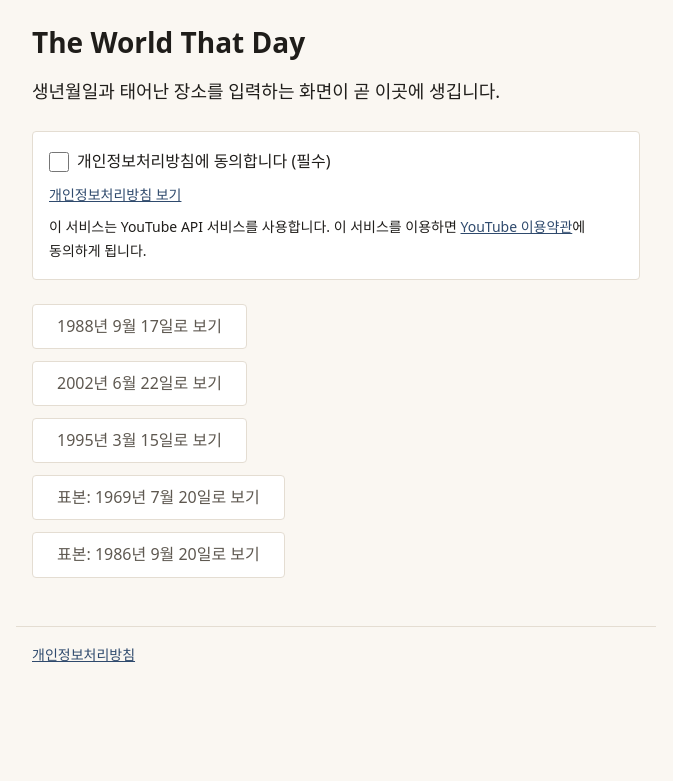
it: App › switches between the input placeholder and the story
Expected: the heading "The World That Day" is shown, left=32, top=23, right=305, bottom=61
Click the checkbox labelled "개인정보처리방침에 동의합니다 (필수)".
click(59, 162)  # box left=49, top=152, right=69, bottom=172
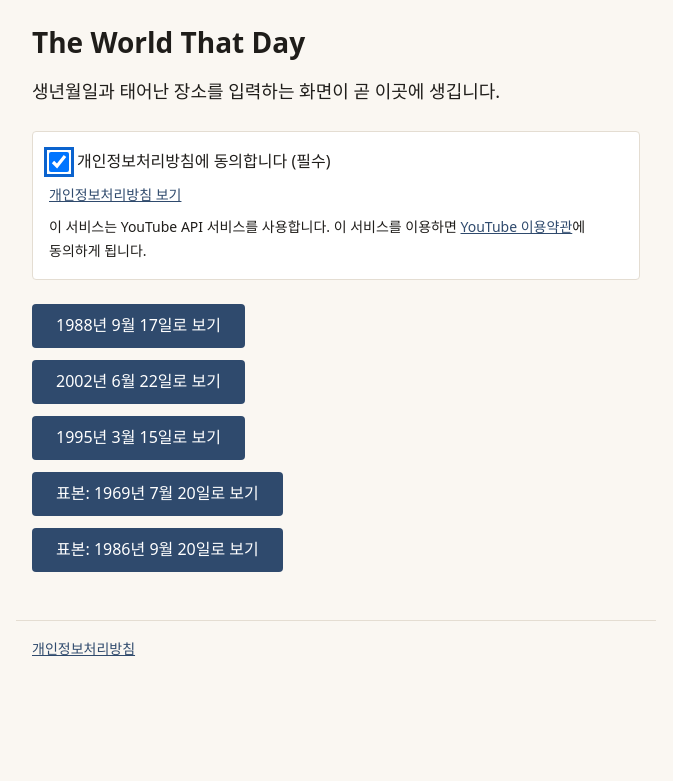
Click the button "1988년 9월 17일로 보기".
click(138, 326)  # box left=32, top=304, right=245, bottom=348
(page scrolled)
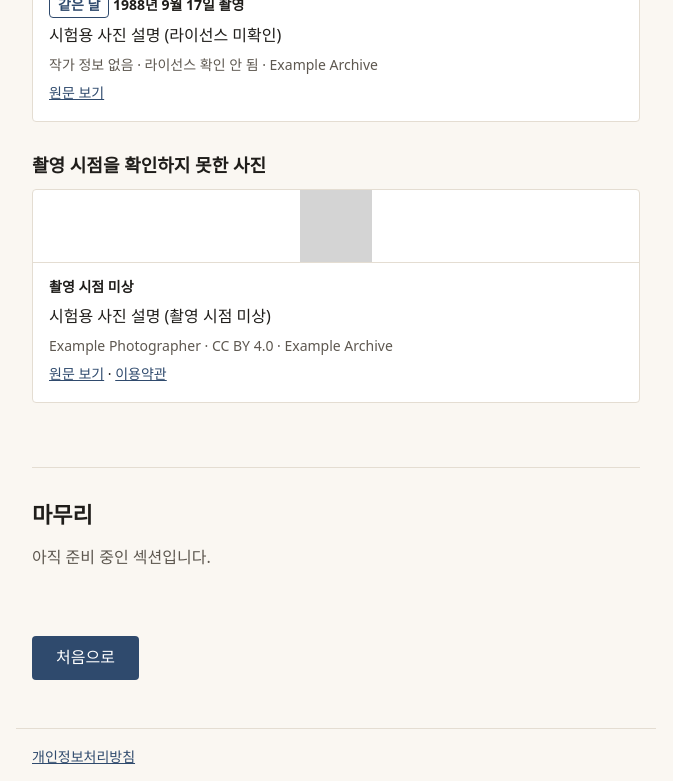
Click the button "처음으로".
click(85, 658)  # box left=32, top=636, right=139, bottom=680
(page scrolled)
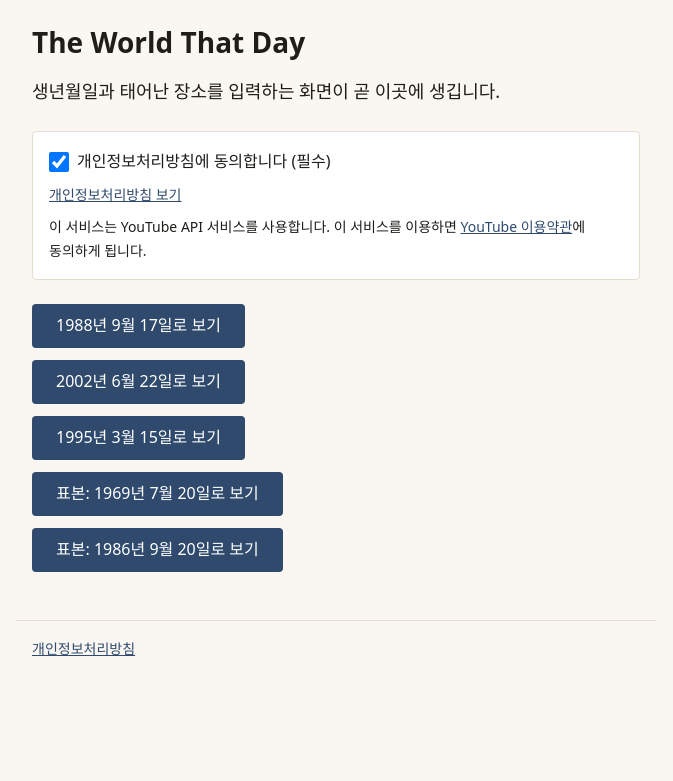
Expected: the button "1988년 9월 17일로 보기" is shown, left=32, top=304, right=245, bottom=348
